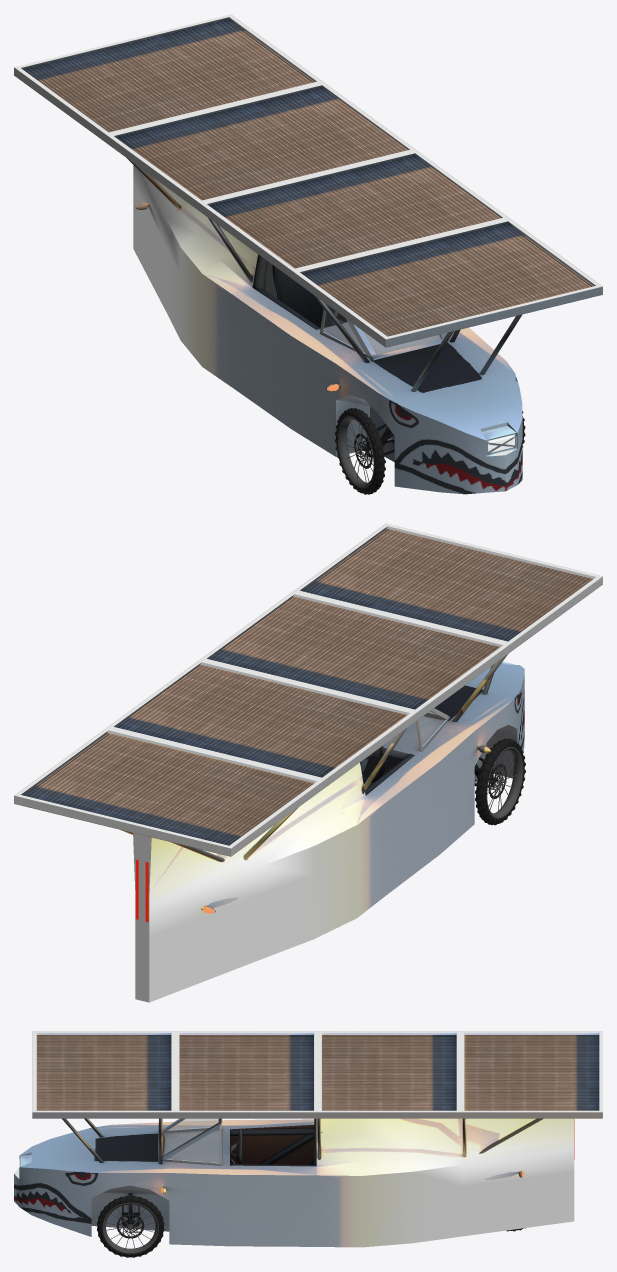
Rendered from DNF-solar-car-model.glb.
3 renders of one model, top to bottom at view 1: azimuth 30°, elevation 25°; view 2: azimuth 150°, elevation 25°; view 3: azimuth 270°, elevation 25°, orthographic. The views are drawn at different scales.
Parts seen in each view (by area): view 1: Solar Panels, Aeroshell, Solar Array, Tire.001, Array Supports, Seat, Windshield, Windshield Frame, Headlight Base; view 2: Solar Panels, Aeroshell, Solar Array, Tire.001, Array Supports; view 3: Aeroshell, Solar Panels, Solar Array, Tire, Windshield, Array Supports, Safety Frame, Windshield Frame, Bicycle Brake Rotor.
Part boxes in pixels (bbox=[...]): Solar Panels: bbox=[23, 18, 594, 336]; Aeroshell: bbox=[133, 165, 522, 494]; Solar Array: bbox=[14, 14, 602, 347]; Tire.001: bbox=[335, 408, 385, 494]; Array Supports: bbox=[99, 38, 522, 391]; Seat: bbox=[272, 265, 347, 327]; Windshield: bbox=[323, 306, 440, 354]; Windshield Frame: bbox=[319, 309, 448, 360]; Headlight Base: bbox=[482, 426, 516, 455]; Solar Panels: bbox=[22, 528, 592, 845]; Aeroshell: bbox=[133, 663, 524, 1002]; Solar Array: bbox=[14, 523, 602, 856]; Tire.001: bbox=[475, 738, 525, 825]; Array Supports: bbox=[121, 654, 507, 861]; Aeroshell: bbox=[14, 1118, 574, 1247]; Solar Panels: bbox=[37, 1035, 599, 1110]; Solar Array: bbox=[32, 1031, 602, 1118]; Tire: bbox=[97, 1195, 164, 1257]; Windshield: bbox=[163, 1118, 219, 1162]; Array Supports: bbox=[62, 1118, 543, 1164]; Safety Frame: bbox=[230, 1128, 315, 1166]; Windshield Frame: bbox=[158, 1118, 222, 1165]; Bicycle Brake Rotor: bbox=[116, 1213, 144, 1238].
Bounding box in the file's own units: 4.08 × 3.74 × 12.51.
Materials: 23 (16 with a texture image).
